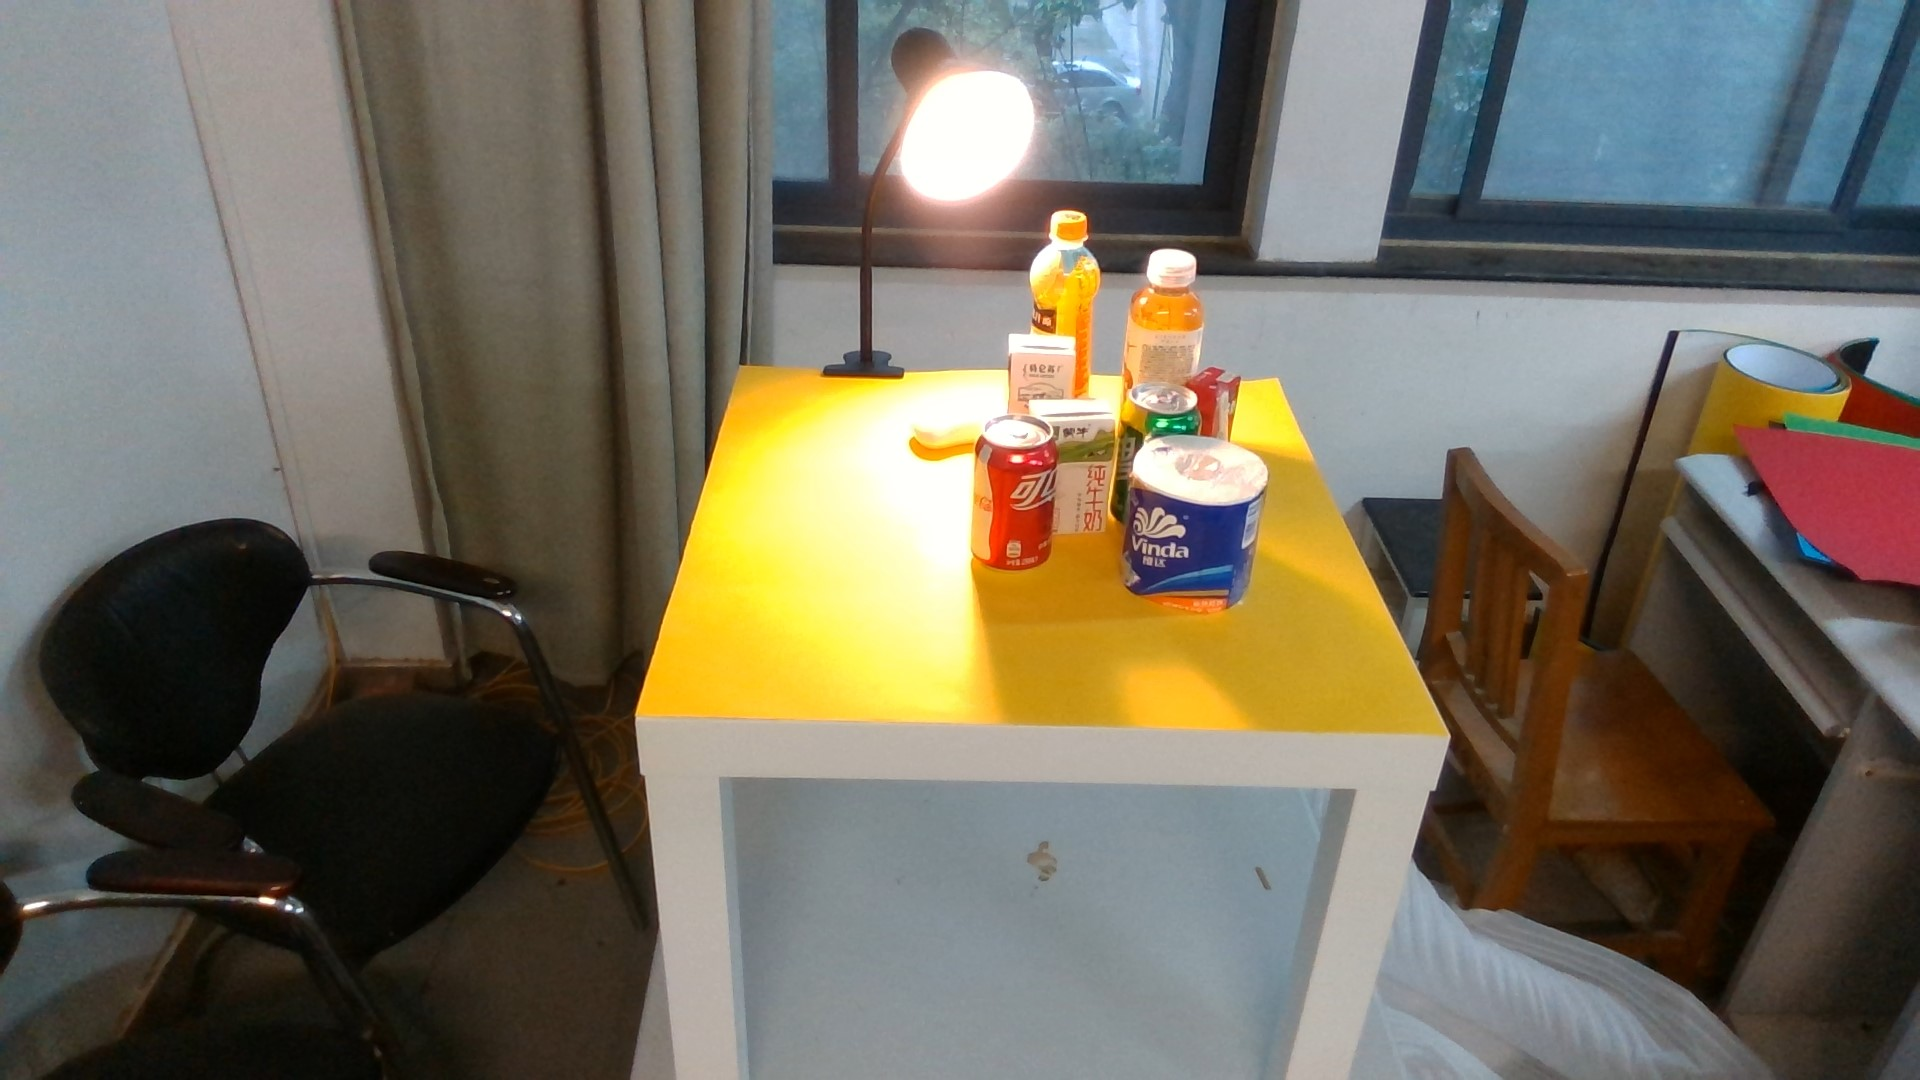BB009: (1058, 398, 1116, 530)
BB010: (1002, 332, 1077, 398)
BB012: (1201, 363, 1240, 431)
CA002: (1118, 435, 1270, 613)
ZC001: (1120, 381, 1201, 434)
ZC002: (971, 413, 1058, 570)
ZC006: (1029, 208, 1101, 338)
ZC012: (1124, 251, 1203, 385)
